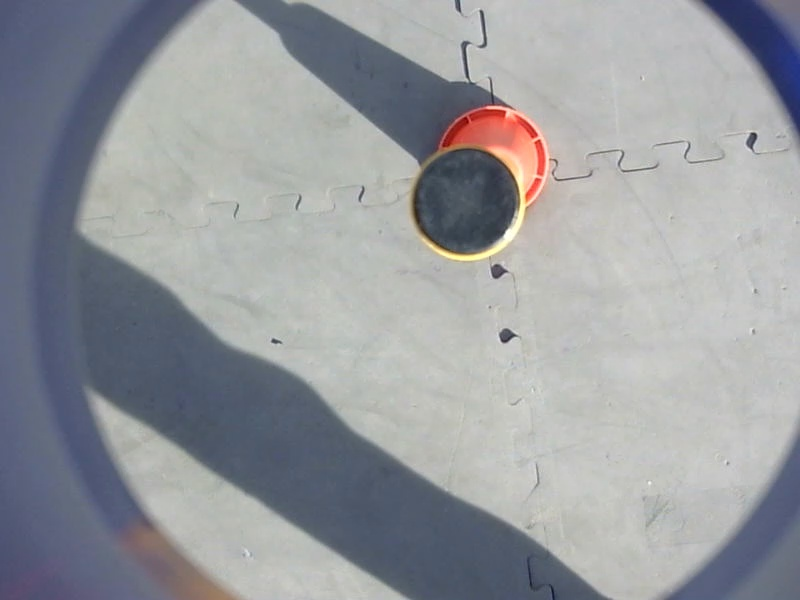tip: (403, 141, 530, 269)
